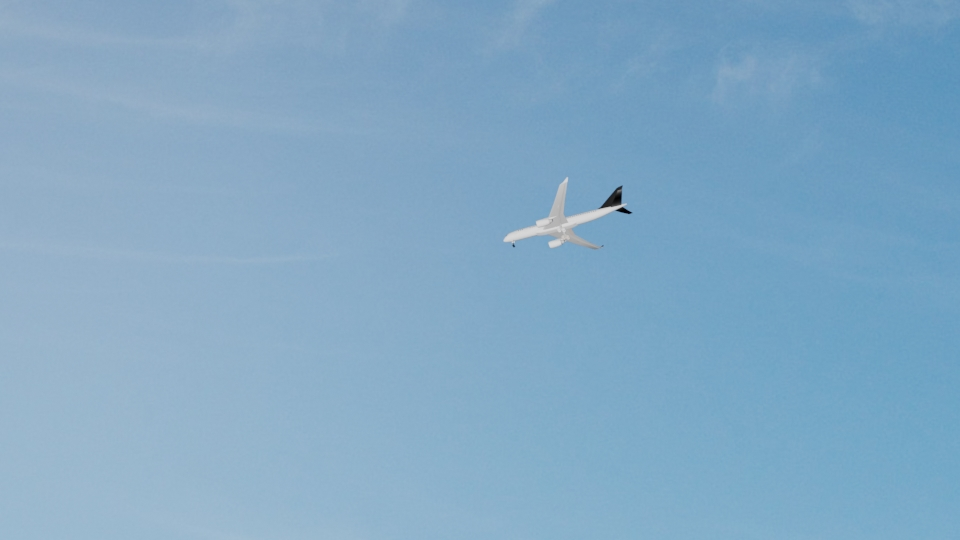plane: (499, 176, 633, 250)
